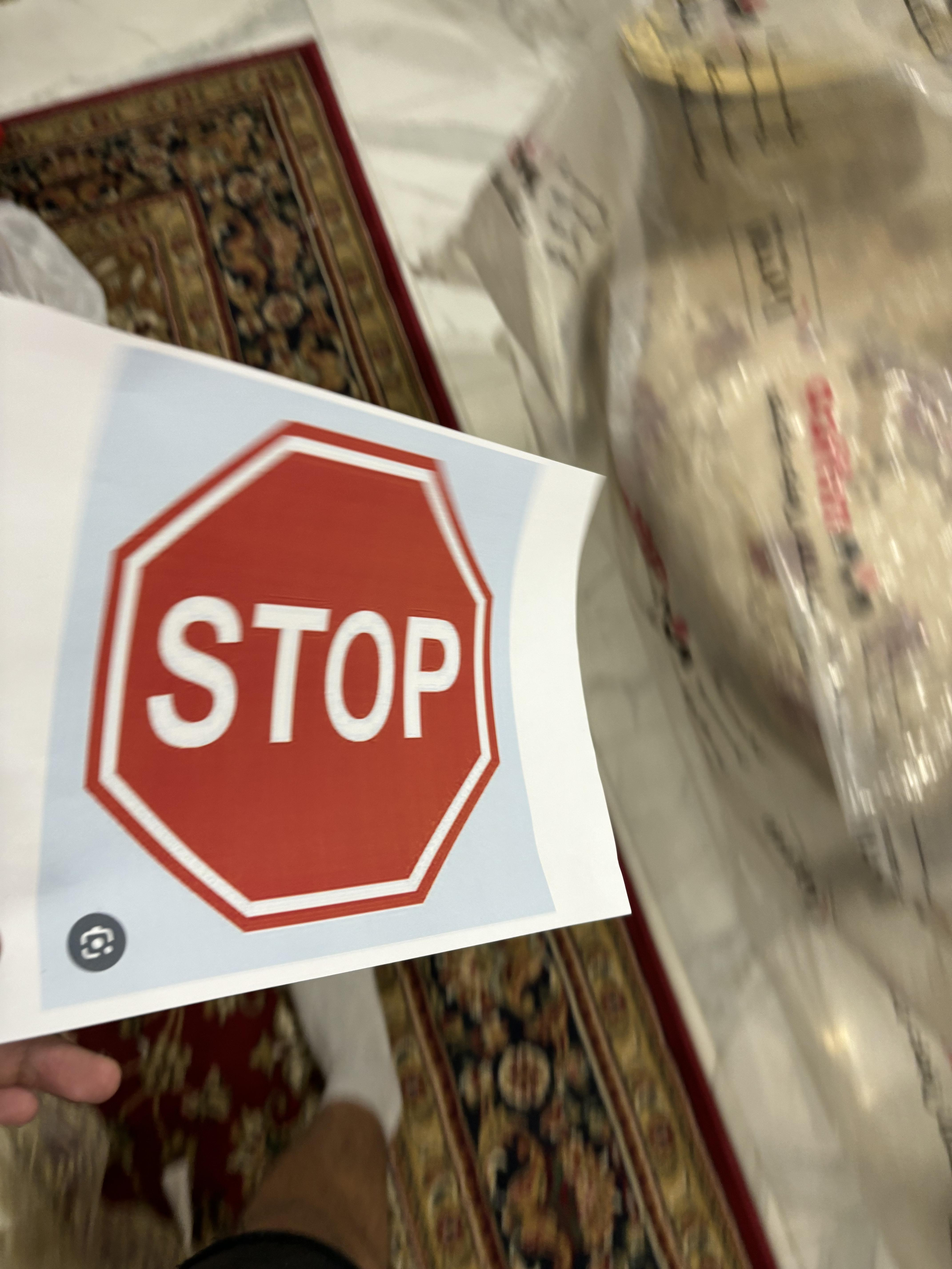Stop: (72, 418, 512, 940)
